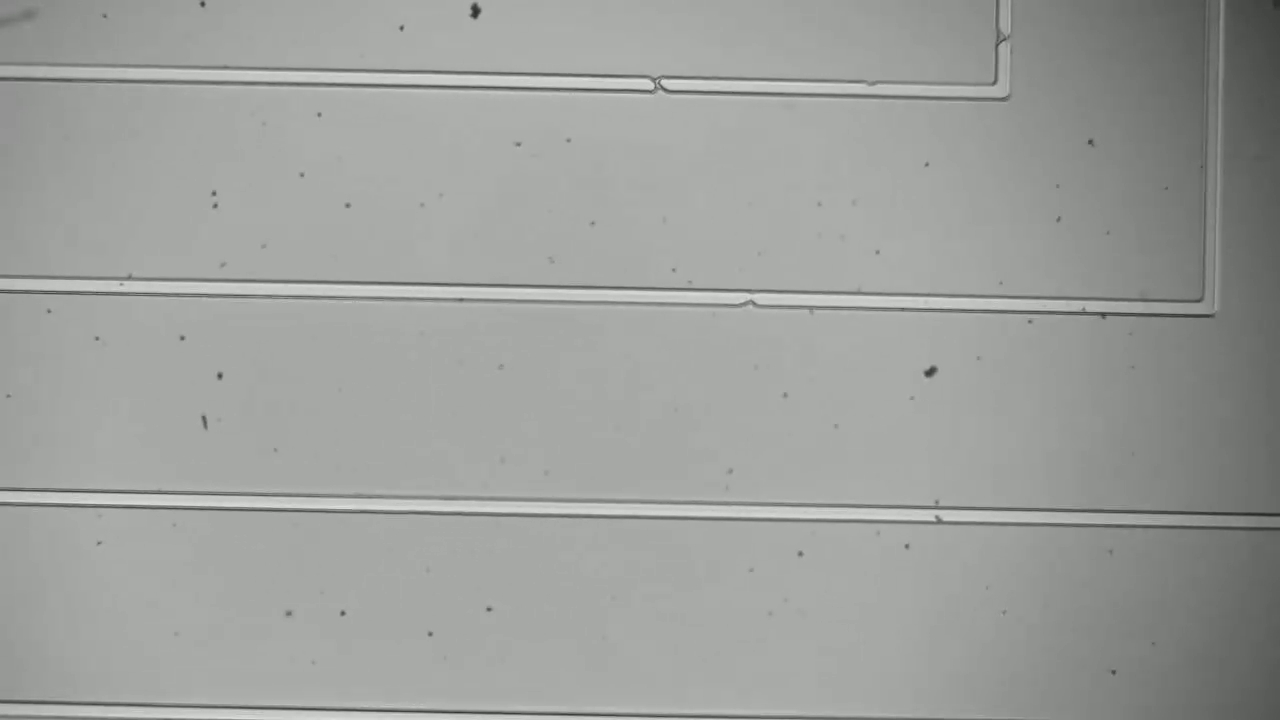edge_bite: (729, 281, 768, 315), (986, 17, 1022, 50)
open: (640, 66, 677, 101)
